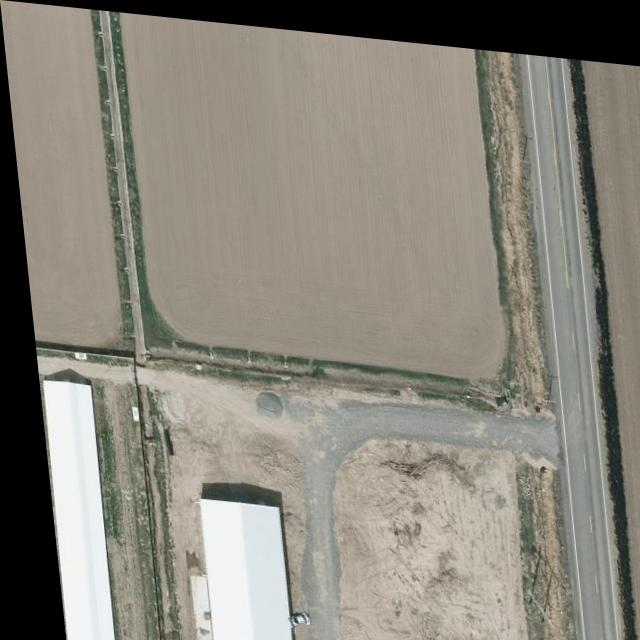vehicle: (273, 607, 298, 624)
